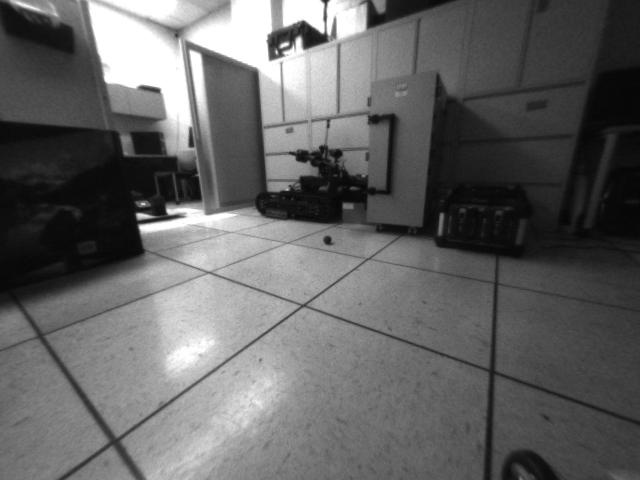dogtoy: (319, 232, 339, 245)
